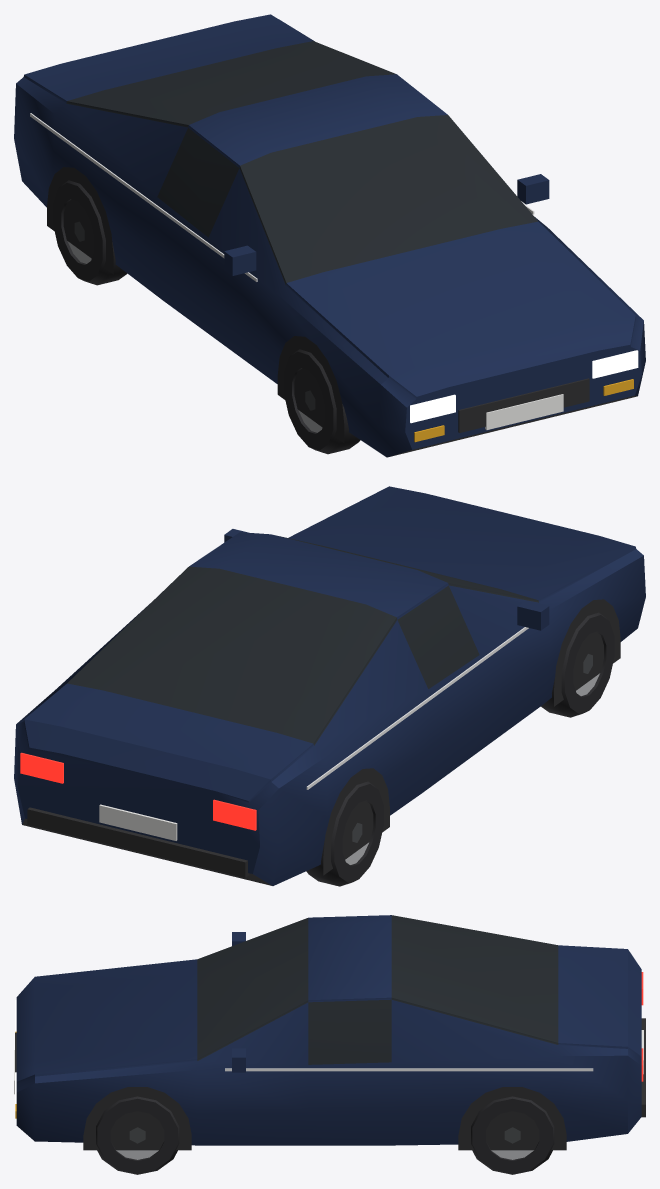
Rendered from coupe_navy.glb.
The picture shows the model from 3 angles, top to bottom: view 1: azimuth 30°, elevation 25°; view 2: azimuth 150°, elevation 25°; view 3: azimuth 270°, elevation 25°; orthographic projection. The views are drawn at different scales.
Parts seen in each view (by area): view 1: coupe; view 2: coupe; view 3: coupe.
Part boxes in pixels (x1,y1,x2,y2): coupe: [14, 14, 645, 457]; coupe: [14, 486, 645, 886]; coupe: [14, 915, 645, 1174].
Size of the model in its own units: 0.1284 by 0.081 by 0.273.
